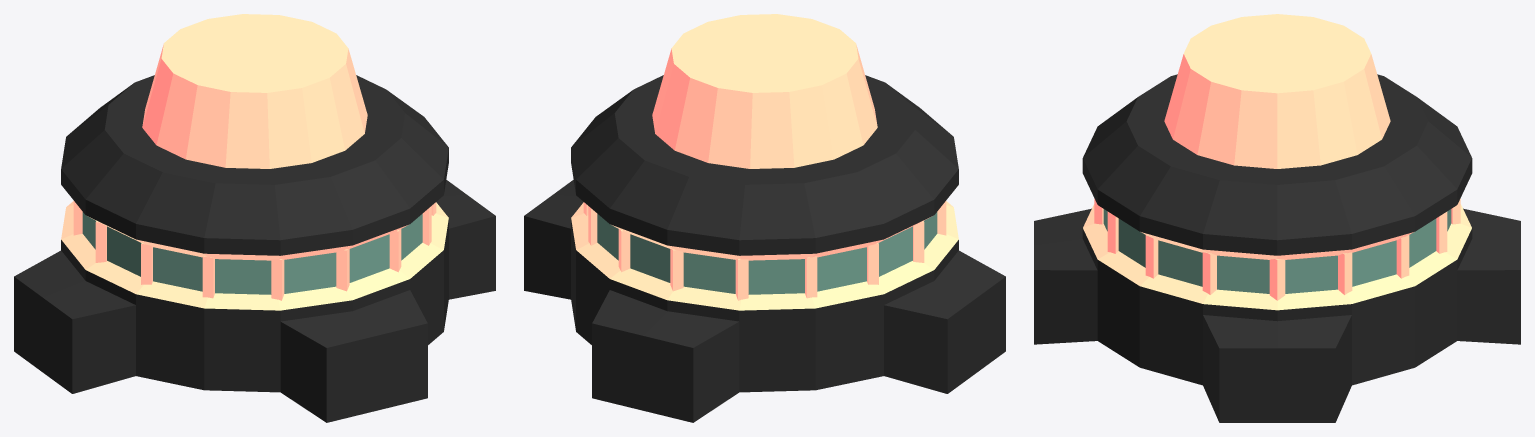
File: MainBuilding_Lv1.fbx
The picture shows the model from 3 angles, left to right: view 1: azimuth 30°, elevation 25°; view 2: azimuth 150°, elevation 25°; view 3: azimuth 270°, elevation 25°; orthographic projection.
Visible parts, largest first — view 1: Base_Lvl01_LOD0; view 2: Base_Lvl01_LOD0; view 3: Base_Lvl01_LOD0.
Boxes of the visible parts, <box> form: Base_Lvl01_LOD0: <box>14,14,495,422</box>; Base_Lvl01_LOD0: <box>524,14,1005,422</box>; Base_Lvl01_LOD0: <box>1034,14,1520,422</box>.
Size of what is drawn, in the model's own units: 12005 by 7248 by 12005.
